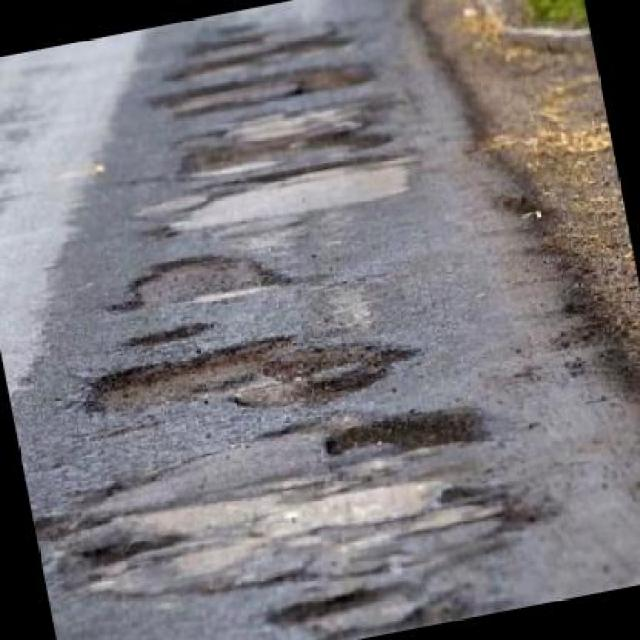pothole1: (73, 305, 427, 449), (92, 230, 296, 328), (141, 46, 377, 128), (169, 108, 393, 189), (318, 394, 498, 475), (156, 26, 350, 88), (117, 314, 217, 352)
